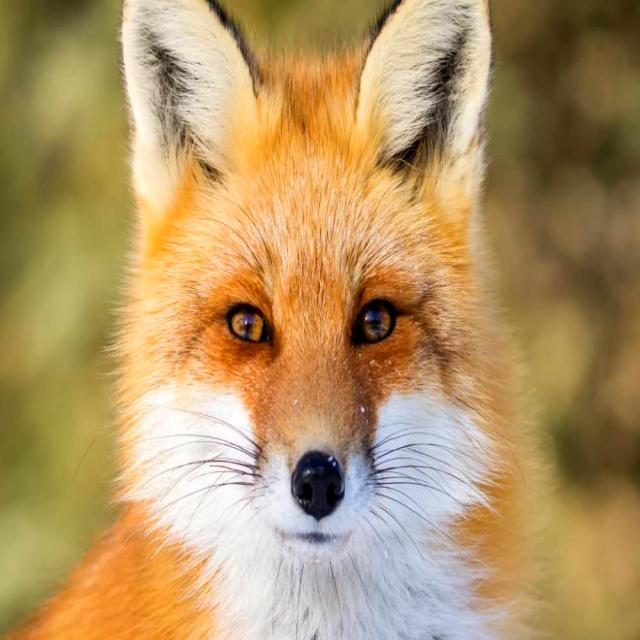fox: (8, 0, 547, 639)
